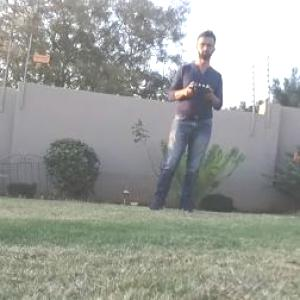follow: (142, 23, 227, 214)
